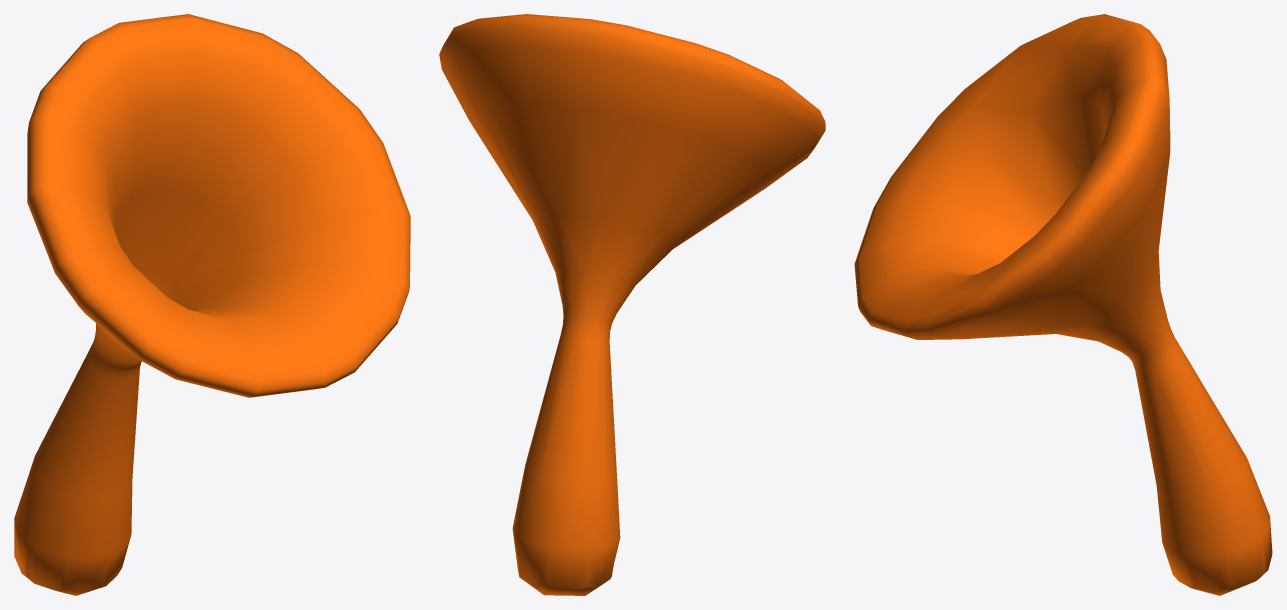
Rendered from setasuelo_low.fbx.
The picture shows the model from 3 angles, left to right: view 1: azimuth 30°, elevation 25°; view 2: azimuth 150°, elevation 25°; view 3: azimuth 270°, elevation 25°; orthographic projection. The views are drawn at different scales.
Visible parts, largest first — view 1: setasuelo_LOW; view 2: setasuelo_LOW; view 3: setasuelo_LOW.
Part boxes in pixels (left/top/right/bottom): setasuelo_LOW: left=14, top=14, right=410, bottom=595; setasuelo_LOW: left=439, top=14, right=825, bottom=595; setasuelo_LOW: left=854, top=14, right=1272, bottom=595.
Size of the model in its own units: 56.1 by 85.85 by 58.72.
